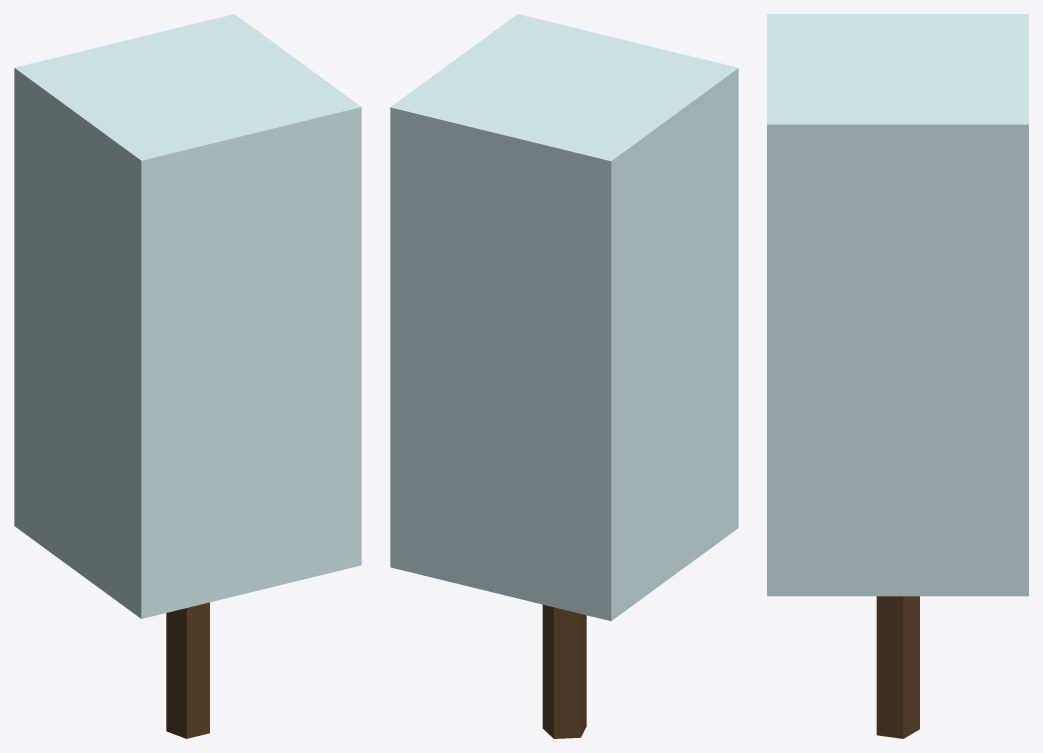
The model's file is tree-square_white.glb.
The picture shows the model from 3 angles, left to right: view 1: azimuth 30°, elevation 25°; view 2: azimuth 150°, elevation 25°; view 3: azimuth 270°, elevation 25°; orthographic projection. The views are drawn at different scales.
Parts seen in each view (by area): view 1: tree-square_winter; view 2: tree-square_winter; view 3: tree-square_winter.
Part boxes in pixels (box(x1,y1,x2,y2)): tree-square_winter: box(14, 14, 361, 738); tree-square_winter: box(390, 14, 738, 738); tree-square_winter: box(767, 14, 1028, 738).
Bounding box in the file's own units: 1.68 × 4.68 × 1.68.
Materials: 1 (1 with a texture image).
